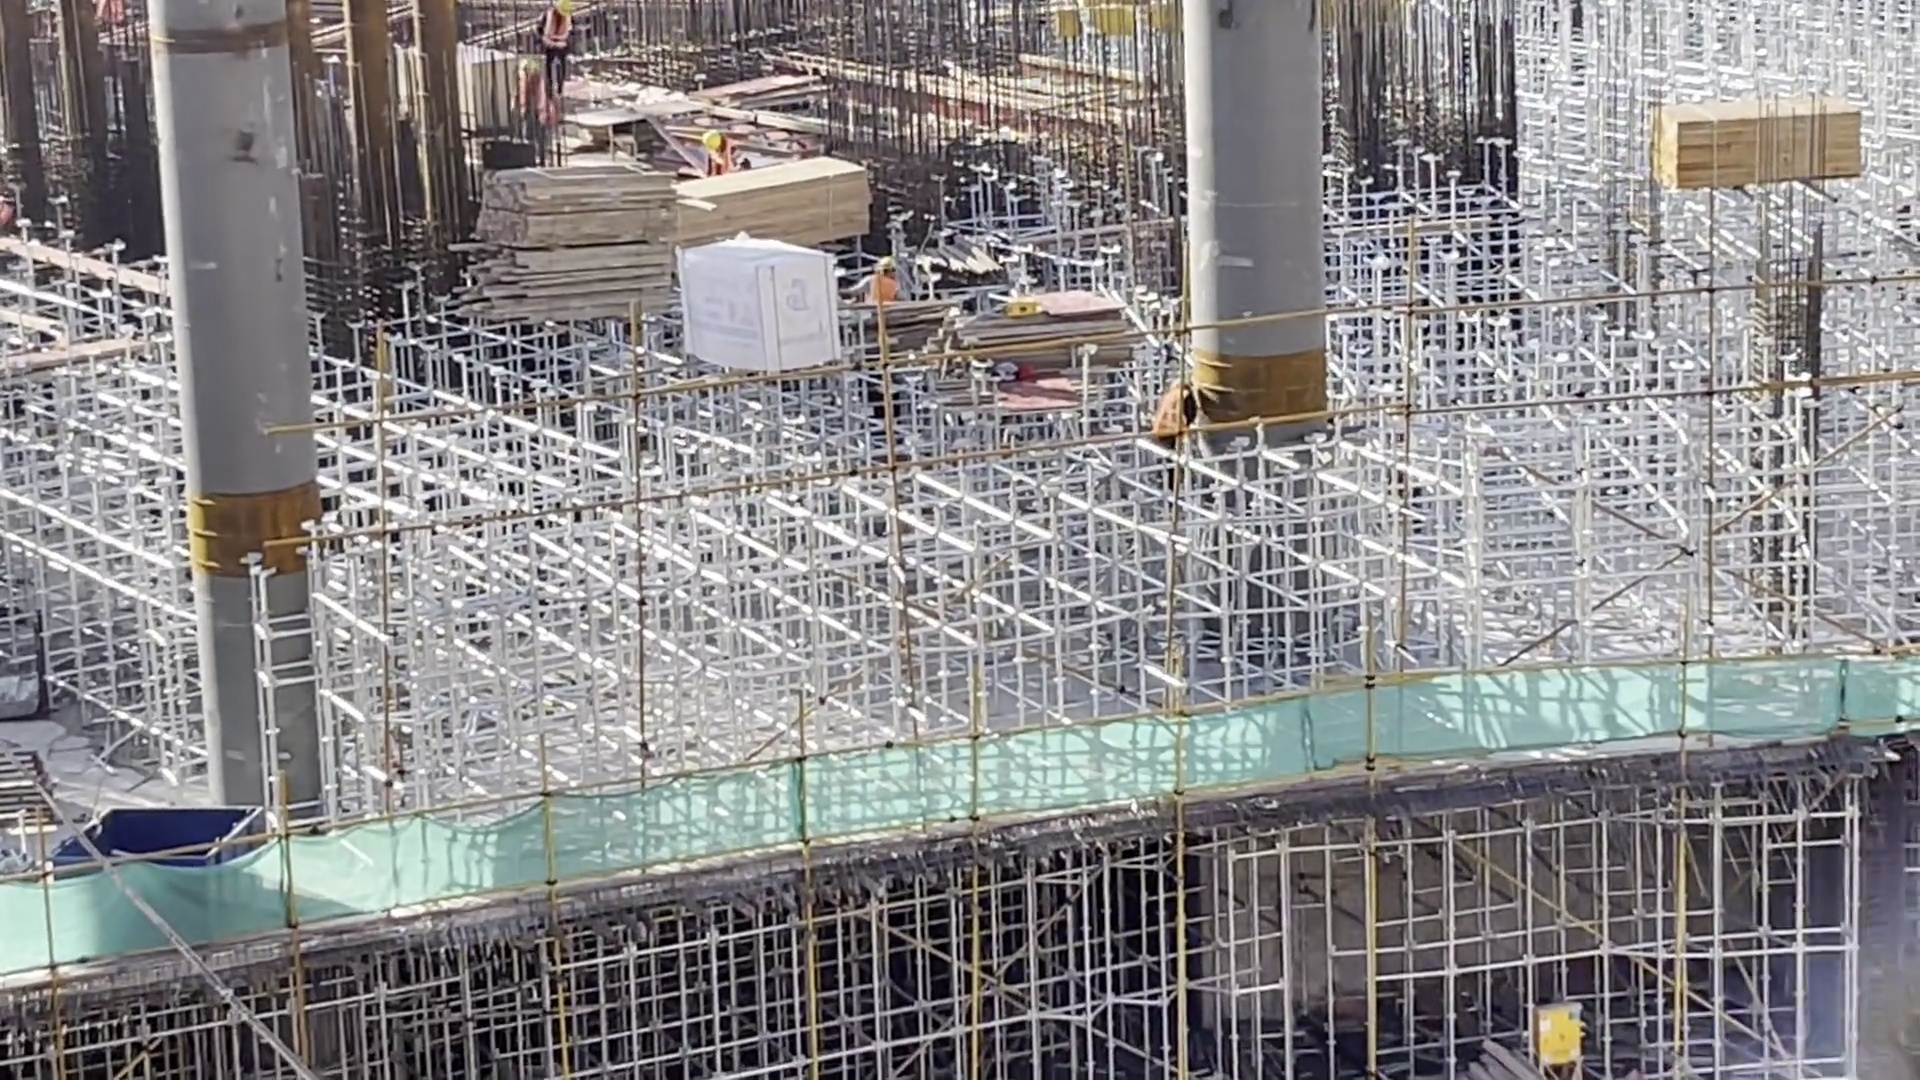board: (941, 285, 1147, 376)
ebox: (1536, 991, 1585, 1074)
helmet: (704, 131, 722, 151), (876, 257, 896, 271), (555, 1, 569, 15)
hopper: (39, 804, 267, 856)
person: (1145, 377, 1200, 448), (534, 1, 571, 103), (840, 255, 911, 301), (703, 131, 755, 176)
vest: (1157, 389, 1191, 436), (541, 8, 572, 49), (864, 275, 900, 303)
wood: (456, 157, 675, 316), (1651, 94, 1867, 195), (673, 152, 871, 242)
